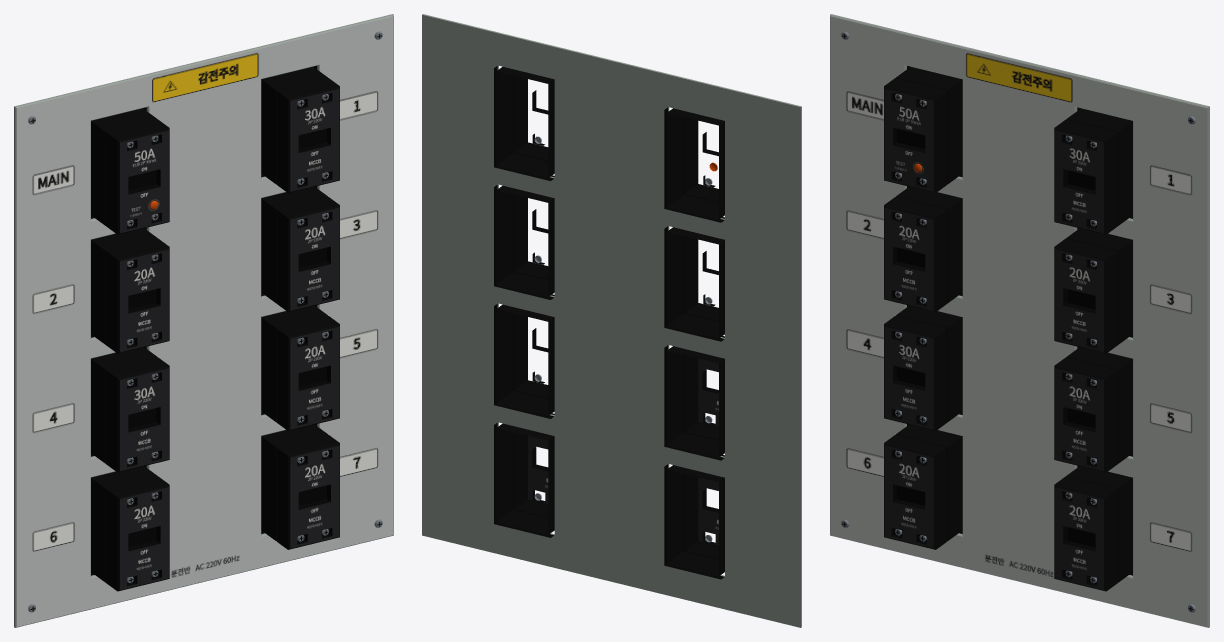
Rendered from BreakerDeck.obj.
The picture shows the model from 3 angles, left to right: view 1: azimuth 30°, elevation 25°; view 2: azimuth 150°, elevation 25°; view 3: azimuth 330°, elevation 25°; orthographic projection.
Visible parts, largest first — view 1: BreakerDeck; view 2: BreakerDeck; view 3: BreakerDeck.
Boxes of the visible parts, x1,y1,x2,y2 form: BreakerDeck: (14, 14, 393, 627); BreakerDeck: (422, 14, 801, 627); BreakerDeck: (830, 14, 1209, 627).
Size of the model in its own units: 0.4 by 0.5255 by 0.0563.
